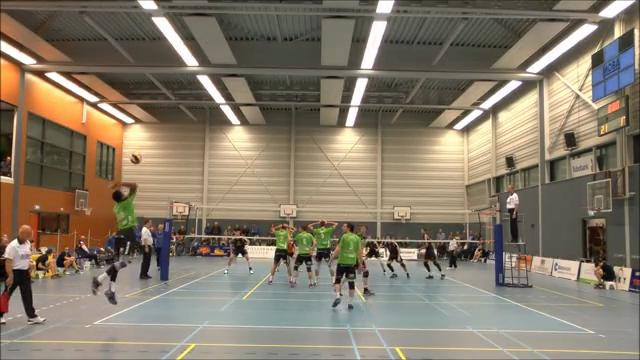Player: (330, 223, 362, 309), (309, 220, 337, 284), (268, 224, 291, 284), (292, 225, 314, 286), (224, 228, 252, 273), (421, 229, 444, 278), (384, 240, 409, 277), (365, 239, 385, 274), (357, 256, 374, 295)
Serve: (91, 180, 141, 305)
ball: (131, 153, 141, 166)
